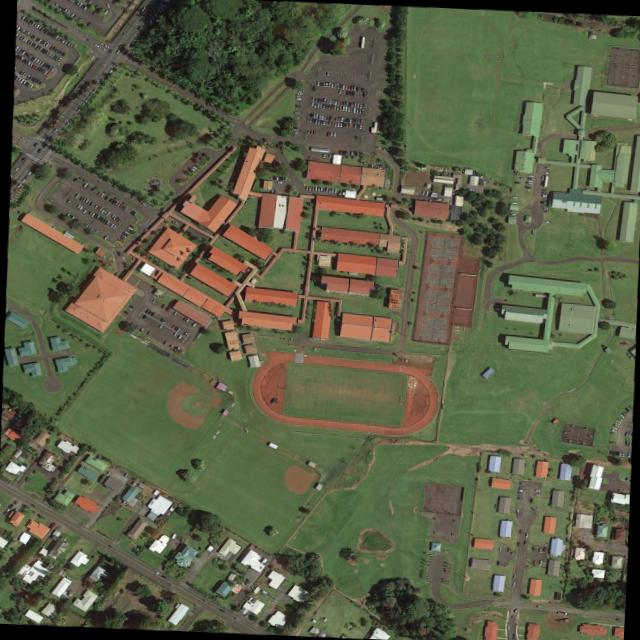small-vehicle: (171, 221, 180, 227), (34, 45, 41, 52), (172, 347, 180, 353), (72, 177, 78, 184), (138, 327, 144, 334), (4, 509, 10, 516), (243, 427, 249, 434), (260, 592, 267, 598), (29, 42, 36, 48), (160, 575, 168, 580), (164, 307, 170, 313), (13, 167, 19, 173), (84, 97, 90, 103), (91, 89, 97, 95), (108, 69, 114, 75), (8, 504, 14, 510), (43, 29, 49, 35), (39, 27, 45, 33), (49, 67, 55, 73), (46, 198, 53, 203), (144, 309, 151, 314), (105, 211, 112, 216), (155, 572, 162, 577), (616, 417, 623, 422), (621, 413, 628, 418), (18, 57, 25, 62), (431, 192, 439, 196), (129, 211, 135, 216), (141, 203, 147, 208), (128, 224, 134, 229), (125, 229, 131, 234), (121, 232, 127, 237), (82, 183, 88, 188), (36, 514, 42, 519), (141, 315, 146, 321), (173, 326, 178, 332), (81, 210, 87, 215), (36, 149, 42, 154), (56, 132, 62, 137), (60, 127, 66, 132), (72, 112, 78, 117), (76, 108, 81, 114), (81, 102, 87, 107), (26, 171, 32, 176), (16, 183, 22, 188), (104, 221, 110, 226), (116, 219, 122, 224), (103, 210, 109, 215), (12, 188, 18, 193), (100, 209, 106, 214), (84, 198, 89, 204), (189, 168, 195, 173), (103, 10, 109, 15), (100, 47, 106, 52), (115, 50, 121, 55), (69, 13, 75, 18), (62, 9, 68, 14), (218, 609, 224, 614), (78, 3, 84, 8), (202, 599, 208, 604), (234, 617, 240, 622), (105, 472, 111, 477), (619, 415, 625, 420), (624, 408, 630, 413), (123, 473, 129, 478), (245, 578, 250, 584), (275, 607, 281, 612), (528, 498, 533, 504), (17, 77, 22, 83), (48, 33, 54, 38), (37, 25, 42, 31), (35, 24, 40, 30), (25, 19, 31, 24), (21, 15, 26, 21), (51, 47, 57, 52), (47, 44, 52, 50), (34, 37, 39, 43), (32, 36, 38, 41), (17, 55, 22, 61), (42, 71, 48, 76), (42, 63, 48, 68), (35, 80, 41, 85), (32, 79, 38, 84), (25, 74, 30, 80), (23, 73, 29, 78), (28, 84, 34, 89), (49, 54, 55, 59), (47, 52, 52, 58), (32, 44, 38, 49), (26, 40, 31, 46), (16, 34, 22, 39), (25, 53, 30, 59), (28, 54, 33, 60), (61, 487, 68, 491), (610, 429, 617, 433), (99, 193, 104, 198), (103, 196, 108, 201), (111, 201, 116, 206), (121, 206, 126, 211), (123, 207, 128, 212), (132, 212, 137, 217), (124, 230, 129, 235), (86, 226, 91, 231), (70, 216, 75, 221), (65, 213, 70, 218), (66, 200, 71, 205), (150, 312, 155, 317), (176, 328, 181, 333), (178, 335, 183, 340), (183, 332, 188, 337), (185, 318, 190, 323), (182, 317, 187, 322), (173, 311, 178, 316), (151, 299, 156, 304), (78, 206, 83, 211), (88, 93, 93, 98), (20, 158, 25, 163), (33, 143, 38, 148), (52, 129, 57, 134), (51, 125, 56, 130), (20, 179, 25, 184), (90, 213, 95, 218), (93, 214, 98, 219), (109, 224, 114, 229), (112, 225, 117, 230), (115, 217, 120, 222), (98, 207, 103, 212), (93, 205, 98, 210), (86, 200, 91, 205), (79, 197, 84, 202), (75, 194, 80, 199), (87, 0, 92, 5), (87, 22, 92, 27), (65, 10, 70, 15), (56, 37, 61, 42), (54, 35, 59, 40), (51, 34, 56, 39), (46, 31, 51, 36), (28, 20, 33, 25), (23, 18, 28, 23), (60, 52, 65, 57), (58, 51, 63, 56), (56, 50, 61, 55), (54, 49, 59, 54), (49, 46, 54, 51), (37, 39, 42, 44), (30, 35, 35, 40), (59, 38, 64, 43), (61, 39, 66, 44), (64, 41, 69, 46), (47, 65, 52, 70), (24, 60, 29, 65), (28, 76, 33, 81), (21, 72, 26, 77), (27, 83, 32, 88), (24, 82, 29, 87), (22, 80, 27, 85), (20, 79, 25, 84), (44, 64, 49, 69), (40, 62, 45, 67), (20, 29, 25, 34), (28, 41, 33, 46), (57, 57, 62, 62), (52, 55, 57, 60), (42, 50, 47, 55), (38, 47, 43, 52), (37, 60, 42, 65), (24, 38, 29, 43), (22, 38, 27, 43), (30, 56, 35, 61), (33, 57, 38, 62), (35, 59, 40, 64), (127, 227, 133, 231), (120, 235, 126, 239), (93, 230, 99, 234), (134, 324, 138, 330), (192, 322, 196, 328), (102, 220, 108, 224), (191, 166, 197, 170), (30, 504, 36, 508), (93, 44, 99, 48), (103, 45, 109, 49), (609, 432, 617, 435), (611, 427, 617, 431), (614, 422, 620, 426), (615, 420, 621, 424), (268, 594, 274, 598), (275, 605, 281, 609), (42, 28, 46, 34), (18, 71, 24, 75), (514, 181, 520, 185), (510, 202, 518, 205), (433, 198, 441, 201), (429, 195, 437, 198), (421, 190, 425, 196), (316, 103, 320, 109), (290, 134, 296, 138), (494, 308, 501, 311), (540, 202, 547, 205), (533, 494, 540, 497), (356, 151, 359, 158), (509, 213, 516, 216), (339, 190, 342, 197), (296, 93, 303, 96), (295, 98, 302, 101), (15, 76, 19, 81), (108, 199, 113, 203), (114, 202, 119, 206), (116, 203, 121, 207), (118, 204, 123, 208), (143, 229, 147, 234), (119, 237, 124, 241), (104, 236, 108, 241), (84, 225, 89, 229), (97, 192, 102, 196), (163, 341, 167, 346), (146, 332, 150, 337), (158, 325, 162, 330), (161, 320, 166, 324), (148, 311, 152, 316), (171, 325, 175, 330), (123, 311, 128, 315), (173, 332, 177, 337), (128, 305, 133, 309), (127, 307, 132, 311), (89, 211, 93, 216), (97, 217, 102, 221), (100, 218, 105, 222), (112, 216, 116, 221), (111, 214, 115, 219), (96, 206, 100, 211), (9, 194, 14, 198), (82, 7, 87, 11), (106, 3, 110, 8), (91, 12, 96, 16), (86, 39, 91, 43), (107, 50, 112, 54), (122, 32, 126, 37), (141, 8, 146, 12), (16, 472, 20, 477), (59, 8, 64, 12), (53, 4, 58, 8), (76, 2, 81, 6), (80, 5, 85, 9), (513, 610, 518, 614), (615, 452, 619, 457), (612, 452, 616, 457), (624, 411, 629, 415), (244, 614, 249, 618), (530, 508, 535, 512), (33, 23, 37, 28), (45, 43, 49, 48), (42, 41, 46, 46), (311, 97, 315, 102), (67, 42, 71, 47), (342, 85, 346, 90), (68, 44, 73, 48), (28, 33, 32, 38), (26, 32, 30, 37), (23, 31, 28, 35), (40, 70, 45, 74), (38, 68, 43, 72), (35, 67, 40, 71), (33, 66, 38, 70), (29, 62, 33, 67), (27, 61, 31, 66), (38, 82, 42, 87), (30, 78, 35, 82), (54, 57, 59, 61), (45, 51, 50, 55), (40, 49, 45, 53), (19, 36, 23, 41), (21, 51, 26, 55), (23, 53, 28, 57), (323, 99, 327, 104), (358, 125, 362, 130), (312, 114, 316, 119), (117, 239, 123, 242), (542, 208, 548, 211), (541, 195, 547, 198), (543, 167, 549, 170), (513, 633, 516, 639), (628, 441, 631, 447), (613, 425, 619, 428), (519, 482, 525, 485), (518, 487, 524, 490), (517, 492, 523, 495), (516, 509, 519, 515), (533, 561, 536, 567), (312, 86, 315, 92), (316, 81, 319, 87), (322, 82, 325, 88), (325, 82, 328, 88), (328, 82, 331, 88), (331, 83, 334, 89), (336, 84, 339, 90), (363, 92, 366, 98), (326, 71, 329, 77), (328, 99, 331, 105), (333, 132, 336, 138), (273, 176, 276, 182), (344, 151, 347, 157), (328, 154, 331, 160), (326, 154, 329, 160), (312, 130, 315, 136), (307, 130, 310, 136), (377, 163, 380, 169), (519, 178, 525, 181), (545, 221, 551, 224), (379, 163, 382, 169), (308, 186, 311, 192), (325, 121, 328, 127), (344, 106, 347, 112), (360, 119, 363, 125), (319, 103, 322, 109), (336, 105, 339, 111), (353, 108, 356, 114), (317, 120, 320, 126), (292, 129, 298, 132), (318, 115, 321, 121), (328, 116, 331, 122), (346, 118, 349, 124), (170, 345, 174, 349), (76, 205, 80, 209), (65, 123, 69, 127), (96, 215, 100, 219), (82, 198, 86, 202), (94, 5, 98, 9), (71, 0, 75, 4), (231, 593, 235, 597), (524, 183, 532, 185), (31, 22, 35, 26), (31, 65, 35, 69), (16, 27, 20, 31), (17, 48, 21, 52), (19, 50, 23, 54), (531, 230, 534, 235), (541, 192, 546, 195), (541, 189, 546, 192), (543, 172, 548, 175), (528, 175, 533, 178), (44, 0, 49, 3), (68, 0, 73, 3), (610, 451, 613, 456), (507, 625, 510, 630), (625, 441, 628, 446), (627, 453, 630, 458), (621, 452, 624, 457), (618, 452, 621, 457), (628, 432, 631, 437), (525, 533, 528, 538), (523, 541, 526, 546), (498, 547, 501, 552), (496, 561, 499, 566), (512, 583, 515, 588), (338, 90, 341, 95), (320, 98, 323, 103), (317, 98, 320, 103), (319, 82, 322, 87), (346, 91, 349, 96), (349, 91, 352, 96), (361, 88, 364, 93), (350, 86, 353, 91), (347, 86, 350, 91), (345, 85, 348, 90), (339, 85, 342, 90), (326, 99, 329, 104), (350, 151, 353, 156), (322, 154, 325, 159), (329, 132, 332, 137), (270, 190, 273, 195), (336, 123, 339, 128), (334, 122, 337, 127), (328, 121, 331, 126), (334, 189, 337, 194), (328, 189, 331, 194), (325, 188, 328, 193), (322, 188, 325, 193), (317, 187, 320, 192), (305, 186, 308, 191), (331, 100, 334, 105), (311, 102, 314, 107), (313, 104, 316, 109), (325, 105, 328, 110), (342, 106, 345, 111), (347, 107, 350, 112), (350, 108, 353, 113), (359, 104, 362, 109), (356, 103, 359, 108), (351, 103, 354, 108), (340, 101, 343, 106), (337, 101, 340, 106), (334, 101, 337, 106), (322, 121, 325, 126), (311, 119, 314, 124), (292, 132, 297, 135), (294, 117, 299, 120), (349, 119, 352, 124), (309, 113, 312, 118), (315, 114, 318, 119), (323, 116, 326, 121), (337, 117, 340, 122), (340, 117, 343, 122), (542, 211, 549, 213), (614, 619, 621, 621), (608, 442, 615, 444), (533, 490, 540, 492), (524, 187, 531, 189), (342, 191, 344, 198), (314, 119, 316, 126), (297, 91, 304, 93), (526, 180, 532, 182), (160, 319, 163, 323), (541, 206, 547, 208), (57, 490, 60, 494), (149, 20, 151, 26), (625, 433, 628, 437), (244, 581, 247, 585), (517, 490, 523, 492), (516, 498, 522, 500), (517, 542, 519, 548), (314, 98, 317, 102), (334, 83, 336, 89), (23, 60, 26, 64), (278, 177, 281, 181), (354, 123, 356, 129), (348, 124, 351, 128), (345, 124, 348, 128), (281, 177, 284, 181), (277, 182, 283, 184), (511, 197, 517, 199), (426, 191, 428, 197), (331, 189, 334, 193), (331, 122, 334, 126), (331, 105, 333, 111), (333, 106, 336, 110), (356, 108, 358, 114), (362, 109, 364, 115), (345, 102, 348, 106), (356, 120, 359, 124), (309, 119, 312, 123), (295, 106, 301, 108), (296, 96, 302, 98), (326, 116, 328, 122), (335, 116, 337, 122), (343, 117, 345, 123), (541, 176, 543, 181), (106, 0, 111, 2), (545, 547, 547, 552), (537, 606, 542, 608), (539, 549, 541, 554), (238, 582, 243, 584), (539, 561, 541, 566), (508, 548, 510, 553), (513, 574, 515, 579), (527, 178, 532, 180), (526, 185, 531, 187), (352, 92, 354, 97), (353, 86, 355, 91), (363, 162, 368, 164), (341, 151, 343, 156), (339, 151, 341, 156), (355, 136, 357, 141), (327, 132, 329, 137), (310, 130, 312, 135), (357, 125, 359, 130), (342, 123, 344, 128), (371, 164, 373, 169), (285, 177, 287, 182), (320, 188, 322, 193), (322, 105, 324, 110), (328, 105, 330, 110), (340, 106, 342, 111), (354, 119, 356, 124), (359, 109, 361, 114), (354, 103, 356, 108), (320, 121, 322, 126), (294, 112, 299, 114), (507, 637, 510, 640), (355, 88, 358, 91), (82, 0, 86, 2), (519, 530, 521, 534), (276, 177, 278, 181), (339, 123, 341, 127), (315, 187, 317, 191), (311, 188, 313, 192), (352, 119, 354, 123), (321, 116, 323, 120)
